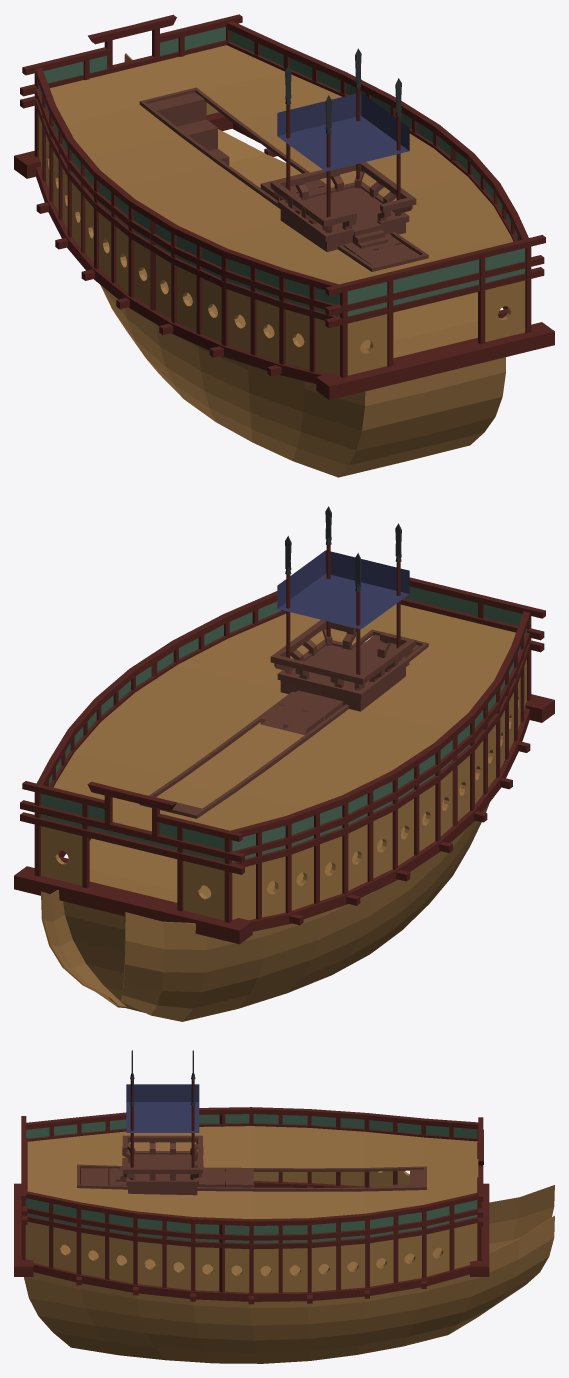
File: panok.glb
The picture shows the model from 3 angles, top to bottom: view 1: azimuth 30°, elevation 25°; view 2: azimuth 150°, elevation 25°; view 3: azimuth 270°, elevation 25°; orthographic projection. The views are drawn at different scales.
Visible parts, largest first — view 1: hull.064, hull.050, hull.053, hull.054, hull.059, Cube.058, Cube.052, hull.058, hull.051, hull.060, hull.056, Cube.057 (+16 smaller); view 2: hull.064, hull.050, hull.053, hull.054, hull.059, Cube.058, Cube.053, hull.058, hull_rear_cover.002, hull.051, hull.056, hull.063 (+16 smaller); view 3: hull.050, hull.053, hull.064, hull.059, hull.054, hull.051, hull.058, Cube.058, hull.055, hull.063, hull.060, Cube.057 (+9 smaller).
Boxes of the visible parts, bbox=[...] form: hull.064: bbox=[50, 45, 513, 284]; hull.050: bbox=[100, 53, 505, 477]; hull.053: bbox=[39, 26, 525, 375]; hull.054: bbox=[34, 26, 531, 377]; hull.059: bbox=[35, 21, 528, 294]; Cube.058: bbox=[277, 92, 409, 171]; Cube.052: bbox=[316, 322, 554, 399]; hull.058: bbox=[35, 42, 517, 314]; hull.051: bbox=[36, 123, 507, 383]; hull.060: bbox=[139, 87, 428, 271]; hull.056: bbox=[20, 40, 544, 315]; Cube.057: bbox=[280, 187, 405, 251]; hull.064: bbox=[53, 604, 515, 831]; hull.050: bbox=[41, 722, 489, 1021]; hull.053: bbox=[41, 586, 526, 920]; hull.054: bbox=[34, 603, 531, 922]; hull.059: bbox=[36, 591, 530, 840]; Cube.058: bbox=[277, 550, 409, 629]; Cube.053: bbox=[14, 866, 252, 944]; hull.058: bbox=[49, 611, 530, 855]; hull_rear_cover.002: bbox=[63, 901, 144, 1012]; hull.051: bbox=[58, 708, 529, 931]; hull.056: bbox=[20, 598, 544, 862]; hull.063: bbox=[41, 890, 194, 1007]; hull.050: bbox=[24, 1186, 554, 1363]; hull.053: bbox=[25, 1114, 477, 1292]; hull.064: bbox=[27, 1126, 478, 1219]; hull.059: bbox=[26, 1107, 478, 1225]; hull.054: bbox=[21, 1113, 481, 1293]; hull.051: bbox=[33, 1181, 469, 1301]; hull.058: bbox=[27, 1123, 478, 1240]; Cube.058: bbox=[126, 1084, 199, 1132]; hull.055: bbox=[27, 1216, 478, 1249]; hull.063: bbox=[489, 1185, 554, 1253]; hull.060: bbox=[77, 1164, 426, 1191]; Cube.057: bbox=[128, 1154, 197, 1195].
Size of the model in its own units: 5.92 by 6.01 by 11.06.
